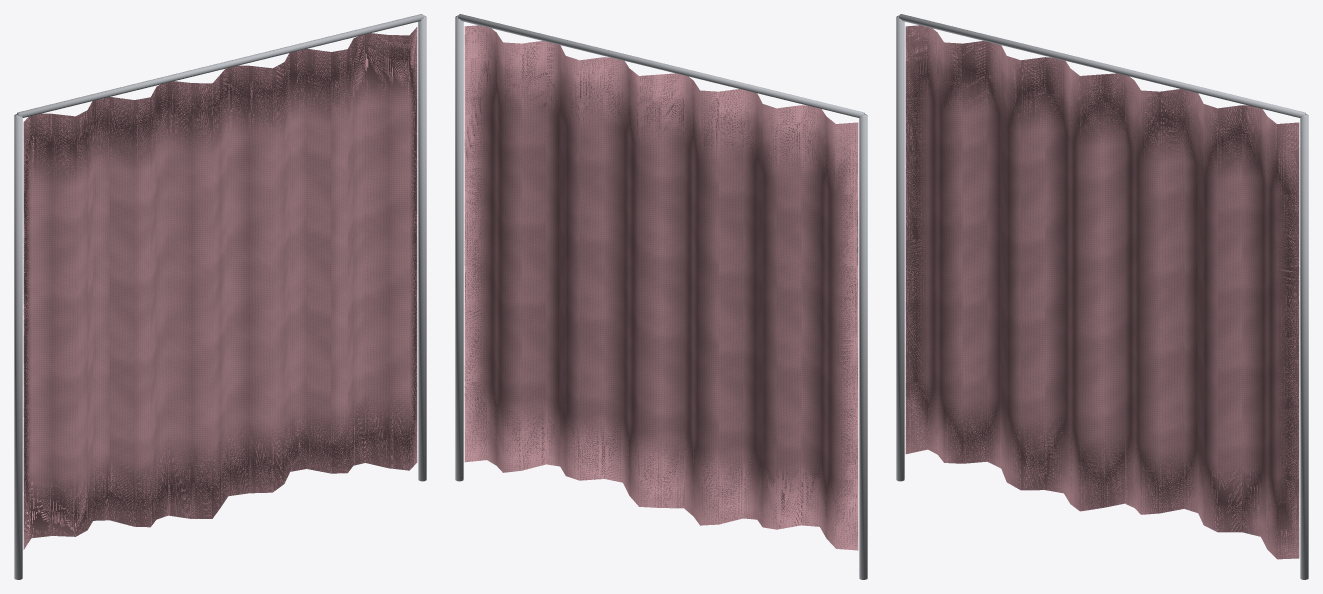
Rendered from Rideau.glb.
3 renders of one model, left to right at view 1: azimuth 30°, elevation 25°; view 2: azimuth 150°, elevation 25°; view 3: azimuth 330°, elevation 25°, orthographic.
Parts seen in each view (by area): view 1: Toile, Rail; view 2: Toile, Rail; view 3: Toile, Rail.
Boxes of the visible parts, <box> form: Toile: <box>23,27,417,549</box>; Rail: <box>14,14,426,579</box>; Toile: <box>464,25,858,550</box>; Rail: <box>455,14,867,579</box>; Toile: <box>905,25,1299,559</box>; Rail: <box>896,14,1308,579</box>.
Bounding box in the file's own units: 1.63 × 1.77 × 0.0993.
Materials: 2 (1 with a texture image).
